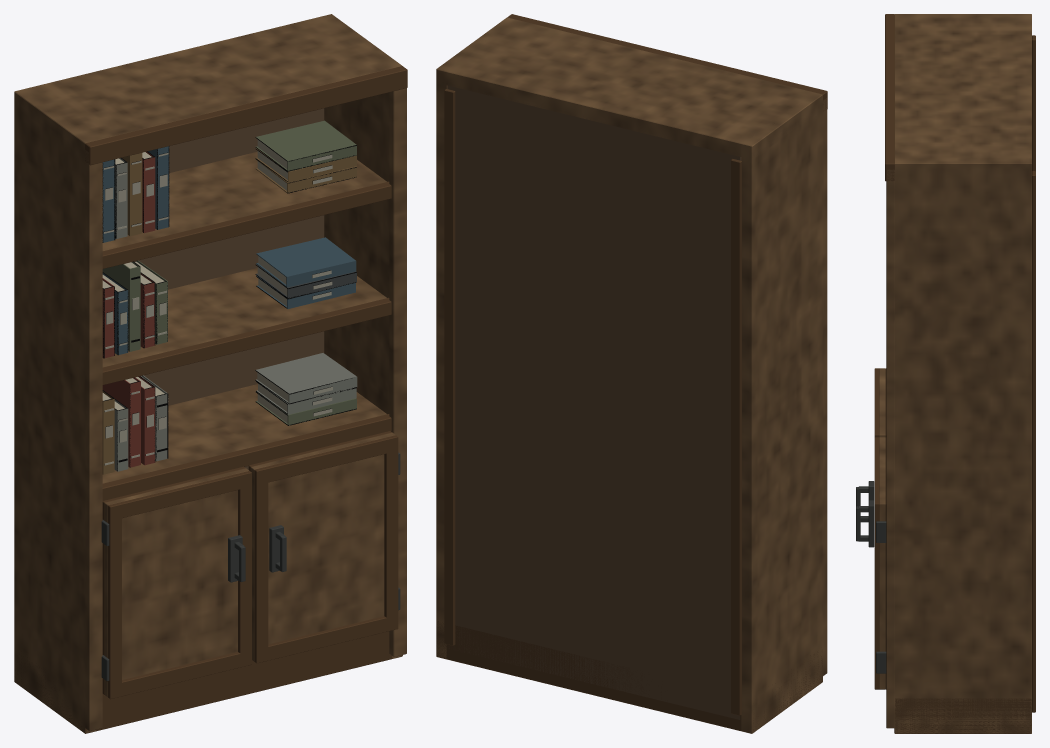
Rendered from Cabinet_Tall.glb.
The picture shows the model from 3 angles, left to right: view 1: azimuth 30°, elevation 25°; view 2: azimuth 150°, elevation 25°; view 3: azimuth 270°, elevation 25°; orthographic projection. The views are drawn at different scales.
Parts seen in each view (by area): view 1: Cabinet_Tall_Body.001, Cabinet_Tall_Door_Left.001, Cabinet_Tall_Door_Right.001, Cabinet_Tall_Book_08.001, Cabinet_Tall_Book_24.001, Cabinet_Tall_Book_16.001, Cabinet_Tall_Book_03.001, Cabinet_Tall_Book_11.001, Cabinet_Tall_Book_19.001, Cabinet_Tall_Book_04.001, Cabinet_Tall_Book_21.001, Cabinet_Tall_Book_15.001 (+15 smaller); view 2: Cabinet_Tall_Body.001; view 3: Cabinet_Tall_Body.001, Cabinet_Tall_Door_Right.001, Cabinet_Tall_Door_Left.001.
Part boxes in pixels (<box>): Cabinet_Tall_Body.001: <box>14,14,407,733</box>; Cabinet_Tall_Door_Left.001: <box>101,466,251,699</box>; Cabinet_Tall_Door_Right.001: <box>248,431,400,663</box>; Cabinet_Tall_Book_08.001: <box>255,353,357,404</box>; Cabinet_Tall_Book_24.001: <box>255,120,356,171</box>; Cabinet_Tall_Book_16.001: <box>256,237,356,287</box>; Cabinet_Tall_Book_03.001: <box>102,377,140,467</box>; Cabinet_Tall_Book_11.001: <box>102,261,140,351</box>; Cabinet_Tall_Book_19.001: <box>122,153,142,236</box>; Cabinet_Tall_Book_04.001: <box>136,376,155,465</box>; Cabinet_Tall_Book_21.001: <box>148,146,169,229</box>; Cabinet_Tall_Book_15.001: <box>255,264,356,298</box>; Cabinet_Tall_Body.001: <box>436,14,827,733</box>; Cabinet_Tall_Body.001: <box>885,14,1035,733</box>; Cabinet_Tall_Door_Right.001: <box>856,437,886,689</box>; Cabinet_Tall_Door_Left.001: <box>856,368,886,522</box>.
Bounding box in the file's own units: 1.16 × 2.06 × 0.588.
12 materials, 12 textured.
